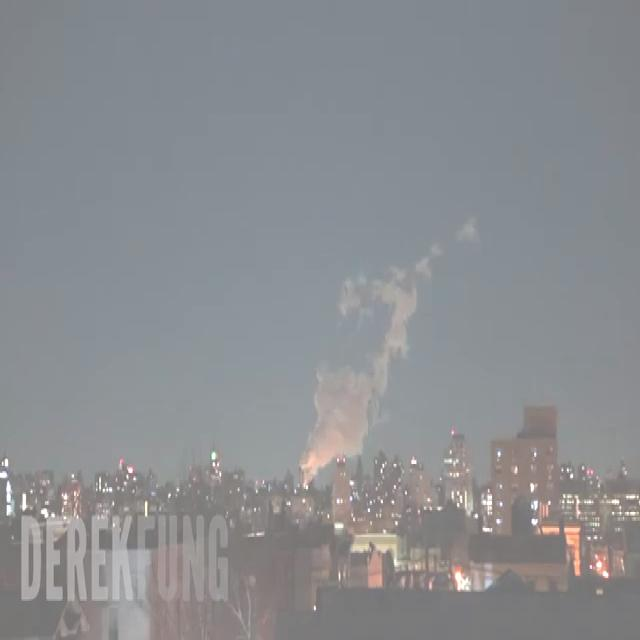smoke: (299, 244, 442, 478)
